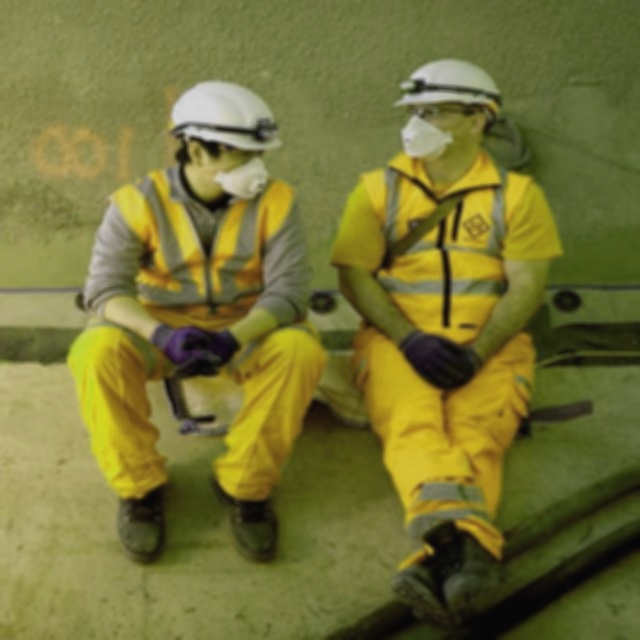Con_Casco: (397, 59, 503, 157)
Con_Chaleco: (346, 165, 544, 349), (87, 173, 308, 334)
